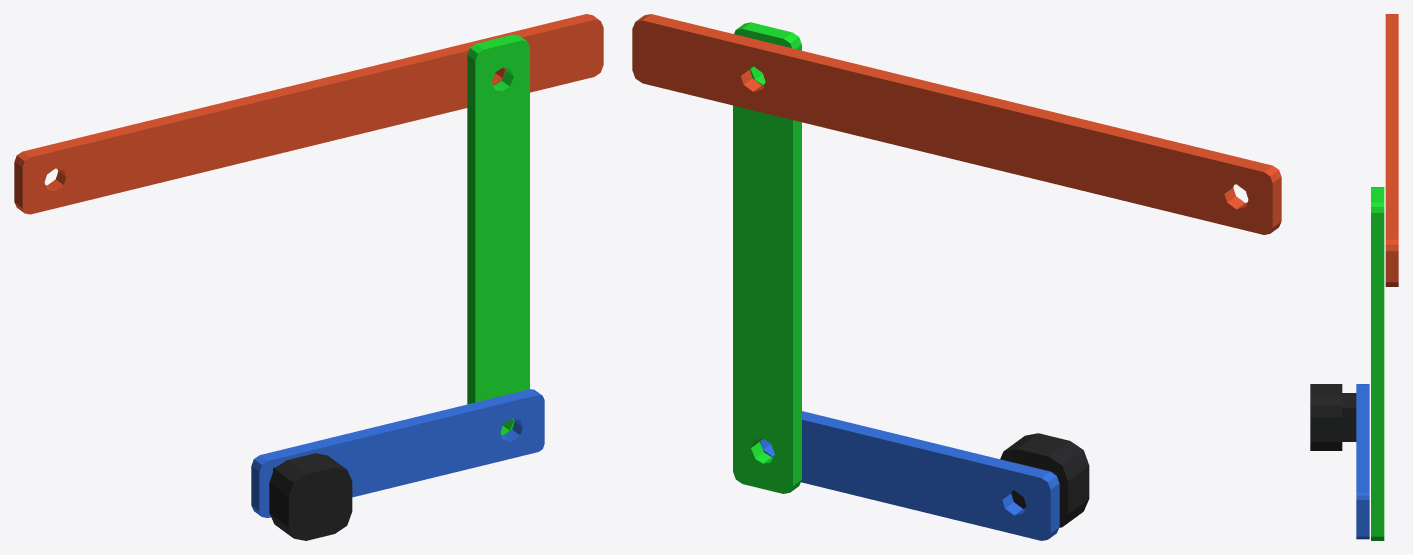
File: BasicArm.glb
3 views of the same model, side by side, from view 1: azimuth 30°, elevation 25°; view 2: azimuth 150°, elevation 25°; view 3: azimuth 270°, elevation 25° (orthographic). The views are drawn at different scales.
Visible parts, largest first — view 1: Arm3, Arm2, Arm1, Motor; view 2: Arm3, Arm2, Arm1, Motor; view 3: Arm2, Arm3, Motor, Arm1.
Part boxes in pixels (x1,y1,x2,y2): Arm3: (14,14,603,214); Arm2: (467,34,529,435); Arm1: (251,389,544,517); Motor: (269,453,352,540); Arm3: (632,14,1281,234); Arm2: (733,22,801,493); Arm1: (760,411,1059,540); Motor: (1000,433,1089,527); Arm2: (1371,187,1384,540); Arm3: (1385,14,1398,286); Motor: (1310,384,1356,450); Arm1: (1356,384,1369,539).
Bounding box in the file's own units: 2.65 × 1.8 × 0.4265.
